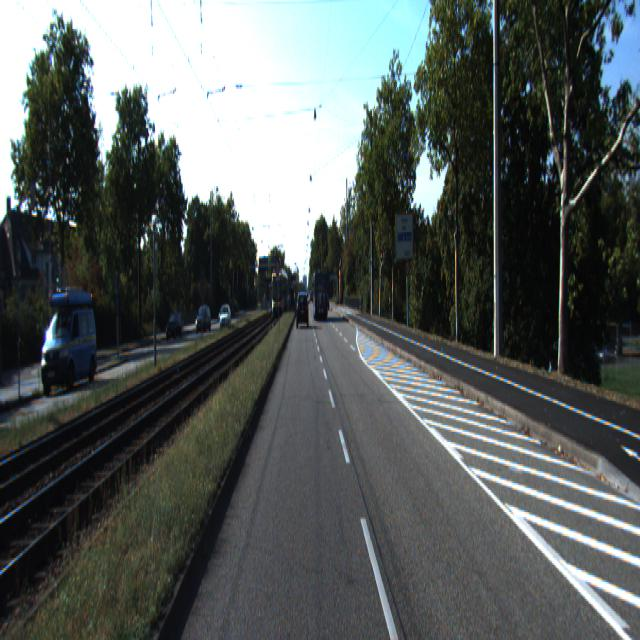Car: (40, 301, 100, 399), (312, 271, 328, 320), (297, 292, 308, 328), (219, 307, 232, 333)
